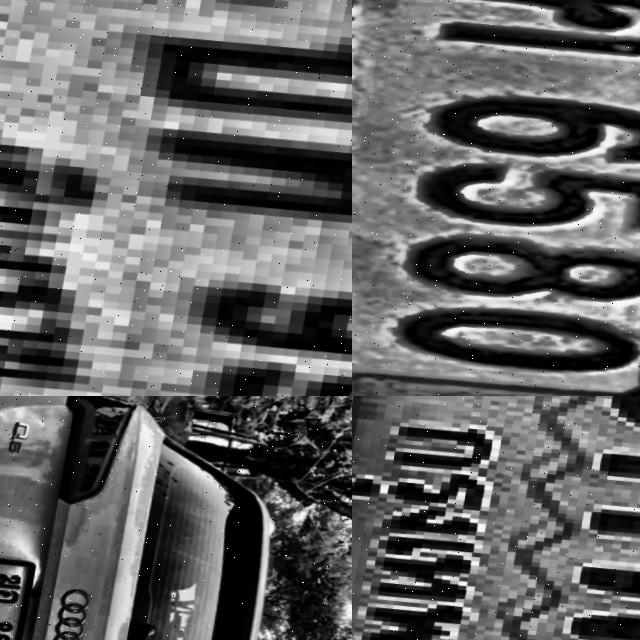license-plate: (0, 0, 352, 396), (352, 0, 640, 396), (352, 396, 640, 640), (0, 552, 46, 640)
